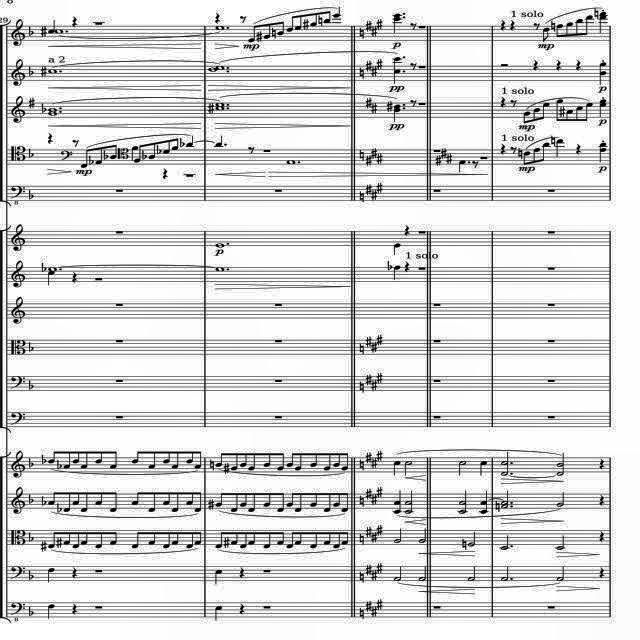Bass-clef: (7, 292, 33, 324), (8, 58, 28, 86), (9, 449, 27, 478), (9, 94, 27, 122), (9, 19, 27, 46), (11, 223, 27, 253), (10, 488, 26, 516), (11, 259, 25, 289)
Bemol: (27, 342, 41, 356), (25, 63, 35, 77), (38, 261, 48, 273), (26, 188, 36, 200), (39, 101, 47, 115), (27, 567, 35, 581), (178, 136, 186, 148), (27, 148, 35, 160), (386, 258, 394, 270), (38, 454, 46, 466), (26, 532, 34, 544), (27, 606, 35, 618), (27, 494, 35, 506), (27, 27, 35, 38), (28, 380, 34, 392), (28, 457, 34, 469), (40, 495, 46, 507), (141, 150, 147, 160), (88, 155, 94, 165), (103, 149, 109, 159), (56, 459, 62, 469), (56, 503, 62, 513), (156, 146, 160, 154)
Diez: (40, 540, 48, 554), (223, 535, 231, 549), (206, 498, 214, 512), (207, 102, 215, 115), (364, 95, 372, 108), (40, 26, 48, 38), (40, 65, 48, 77), (256, 30, 264, 42), (302, 18, 310, 30), (364, 20, 372, 32), (376, 18, 384, 30), (364, 60, 372, 72), (28, 98, 36, 110), (371, 102, 379, 114), (386, 100, 394, 112), (558, 106, 566, 118), (434, 154, 442, 166), (440, 148, 448, 160), (446, 152, 454, 164), (370, 146, 378, 158), (376, 153, 384, 165), (364, 184, 372, 196), (364, 336, 372, 348), (376, 524, 384, 536), (56, 536, 64, 548), (364, 564, 372, 576), (370, 570, 378, 582), (376, 562, 384, 574), (364, 600, 372, 612), (364, 372, 372, 383), (370, 457, 378, 468), (376, 451, 384, 462), (364, 488, 372, 499), (376, 334, 384, 344), (376, 487, 384, 497), (364, 526, 372, 536), (376, 599, 384, 609), (371, 66, 377, 78), (366, 154, 372, 166), (371, 189, 377, 201), (223, 462, 229, 474), (366, 451, 372, 463), (377, 59, 383, 70), (377, 372, 383, 383), (371, 26, 377, 36), (371, 342, 377, 352), (371, 494, 377, 504), (378, 182, 382, 194), (372, 606, 376, 618), (372, 381, 376, 392), (372, 532, 376, 542)
Eighth-note: (145, 491, 159, 513), (127, 530, 141, 550), (210, 530, 224, 550), (108, 491, 120, 514), (228, 491, 240, 514), (274, 491, 286, 513), (106, 450, 118, 470), (170, 451, 182, 471), (60, 492, 72, 512), (320, 492, 332, 512), (539, 141, 549, 163), (78, 148, 89, 168), (321, 452, 332, 472), (246, 25, 258, 43), (182, 531, 194, 549), (306, 530, 318, 548), (146, 451, 156, 472), (262, 530, 272, 550), (80, 492, 90, 512), (294, 492, 304, 512), (180, 490, 194, 504), (554, 98, 562, 122), (306, 452, 318, 468), (92, 532, 104, 548), (158, 532, 170, 548), (260, 492, 272, 508), (574, 19, 584, 37), (229, 452, 239, 470), (275, 453, 285, 471), (47, 531, 57, 549), (238, 491, 248, 509), (584, 14, 592, 36), (248, 491, 256, 513), (520, 110, 532, 124), (108, 531, 120, 545), (130, 492, 142, 506), (160, 491, 172, 505), (306, 492, 318, 506), (61, 451, 70, 469), (541, 26, 551, 42), (540, 102, 550, 118), (574, 106, 584, 122), (585, 102, 593, 122), (530, 148, 540, 164), (134, 144, 142, 164), (80, 450, 88, 470), (194, 450, 202, 470), (238, 451, 248, 467), (262, 452, 272, 468), (286, 530, 294, 550), (47, 490, 57, 506), (172, 492, 180, 512), (194, 492, 202, 512), (342, 492, 350, 512), (213, 493, 224, 507), (295, 452, 303, 471), (264, 21, 272, 39), (294, 14, 302, 32), (148, 141, 156, 159), (94, 147, 102, 165), (248, 453, 256, 471), (144, 532, 156, 544), (240, 531, 248, 549), (94, 451, 105, 464), (285, 452, 295, 466), (331, 453, 341, 467), (321, 532, 331, 546), (332, 489, 340, 506), (160, 451, 170, 464), (286, 16, 294, 32), (566, 22, 574, 38), (532, 106, 540, 122), (110, 144, 118, 160), (72, 532, 80, 548), (230, 530, 238, 546), (276, 530, 284, 546), (294, 530, 302, 546), (332, 532, 340, 548), (342, 530, 350, 546), (72, 490, 80, 506), (286, 492, 294, 508), (61, 531, 70, 545), (130, 450, 140, 462), (183, 450, 193, 462), (215, 454, 225, 466), (342, 452, 348, 472), (93, 492, 103, 504), (276, 21, 284, 35), (310, 13, 318, 27), (323, 10, 331, 24), (556, 23, 564, 37), (522, 152, 530, 166), (162, 140, 170, 154), (48, 451, 56, 465), (80, 531, 88, 545), (170, 531, 178, 545), (194, 531, 202, 545), (248, 531, 256, 545), (72, 451, 80, 464), (172, 138, 180, 150), (566, 110, 572, 122)
Eighth-rest: (507, 98, 518, 106), (238, 16, 248, 24), (410, 97, 418, 107), (72, 138, 80, 148), (410, 22, 418, 30), (532, 22, 540, 30), (409, 62, 417, 70), (472, 160, 480, 168), (510, 146, 518, 154), (249, 144, 255, 154)
Full-note: (213, 23, 223, 33), (49, 68, 57, 76), (215, 242, 225, 248), (216, 64, 224, 70), (46, 108, 58, 112), (48, 112, 58, 116), (215, 102, 225, 106), (215, 106, 225, 110), (286, 160, 296, 164), (56, 30, 64, 34), (208, 68, 216, 72), (216, 268, 224, 272)
Half-note: (554, 489, 566, 507), (554, 565, 566, 583), (391, 564, 404, 580), (457, 459, 468, 477), (467, 564, 478, 582), (554, 535, 566, 551), (497, 535, 509, 551), (466, 531, 478, 547), (414, 566, 426, 582), (404, 460, 414, 476), (392, 528, 402, 544), (416, 528, 426, 544), (498, 566, 509, 580)
Quarter-note: (46, 567, 58, 585), (212, 604, 224, 620), (556, 138, 564, 158), (392, 264, 402, 280), (213, 570, 223, 586), (46, 604, 56, 620), (393, 460, 401, 478), (392, 242, 402, 255), (480, 460, 488, 476), (213, 134, 223, 146), (128, 146, 138, 158), (458, 159, 466, 173), (332, 5, 340, 18), (186, 134, 194, 146), (48, 19, 54, 33)
Quarter-rest: (70, 271, 82, 287), (531, 59, 541, 73), (553, 58, 563, 72), (497, 96, 507, 110), (596, 494, 606, 508), (598, 566, 606, 582), (237, 602, 245, 618), (70, 16, 80, 28), (213, 12, 223, 24), (573, 144, 583, 156), (597, 458, 607, 470), (574, 59, 582, 73), (46, 133, 54, 147), (161, 167, 169, 181), (70, 566, 78, 580), (70, 602, 78, 616), (498, 20, 506, 32), (509, 19, 517, 31), (499, 142, 505, 158), (404, 224, 412, 236), (598, 530, 606, 542), (238, 566, 246, 578), (405, 260, 411, 274)
